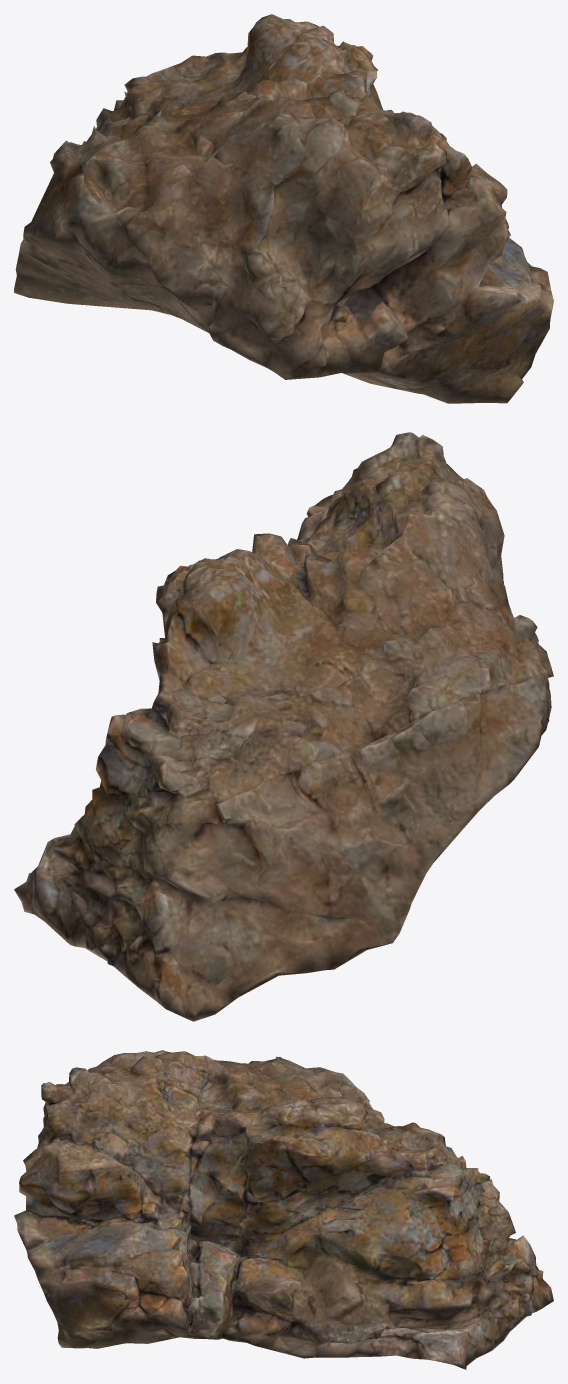
File: boulder-light.glb
3 renders of one model, top to bottom at view 1: azimuth 30°, elevation 25°; view 2: azimuth 150°, elevation 25°; view 3: azimuth 270°, elevation 25°, orthographic. The views are drawn at different scales.
Parts seen in each view (by area): view 1: boulder_01; view 2: boulder_01; view 3: boulder_01.
Boxes of the visible parts, x1,y1,x2,y2 form: boulder_01: (14,14,553,403); boulder_01: (14,432,553,1021); boulder_01: (14,1050,553,1369).
Bounding box in the file's own units: 1.28 × 1 × 1.83.
1 material, 1 textured.
